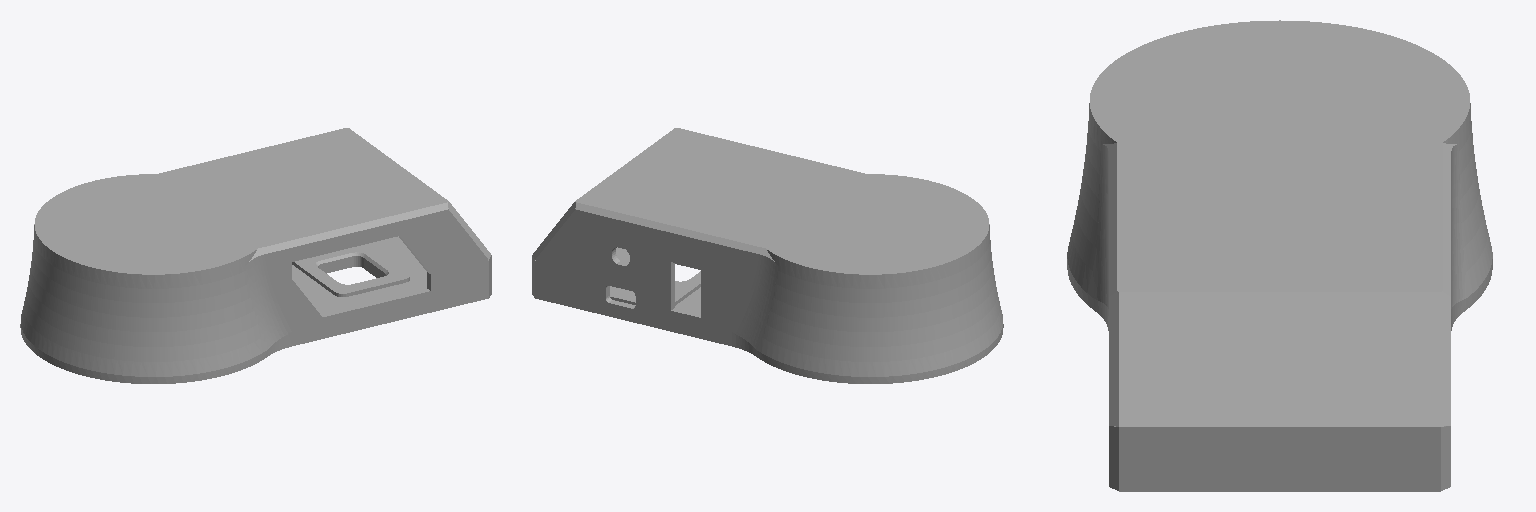
robot.urdf — URDF:
<?xml version="1.0" ?>
<!-- =================================================================================== -->
<!-- |    This document was autogenerated by xacro from URDF.xacro                     | -->
<!-- |    EDITING THIS FILE BY HAND IS NOT RECOMMENDED                                 | -->
<!-- =================================================================================== -->
<robot name="URDF">
  <material name="silver">
    <color rgba="0.700 0.700 0.700 1.000"/>
  </material>
  <transmission name="Revolute1_tran">
    <type>transmission_interface/SimpleTransmission</type>
    <joint name="Revolute1">
      <hardwareInterface>hardware_interface/EffortJointInterface</hardwareInterface>
    </joint>
    <actuator name="Revolute1_actr">
      <hardwareInterface>hardware_interface/EffortJointInterface</hardwareInterface>
      <mechanicalReduction>1</mechanicalReduction>
    </actuator>
  </transmission>
  <transmission name="Revolute2_tran">
    <type>transmission_interface/SimpleTransmission</type>
    <joint name="Revolute2">
      <hardwareInterface>hardware_interface/EffortJointInterface</hardwareInterface>
    </joint>
    <actuator name="Revolute2_actr">
      <hardwareInterface>hardware_interface/EffortJointInterface</hardwareInterface>
      <mechanicalReduction>1</mechanicalReduction>
    </actuator>
  </transmission>
  <transmission name="Revolute3_tran">
    <type>transmission_interface/SimpleTransmission</type>
    <joint name="Revolute3">
      <hardwareInterface>hardware_interface/EffortJointInterface</hardwareInterface>
    </joint>
    <actuator name="Revolute3_actr">
      <hardwareInterface>hardware_interface/EffortJointInterface</hardwareInterface>
      <mechanicalReduction>1</mechanicalReduction>
    </actuator>
  </transmission>
  <transmission name="Revolute4_tran">
    <type>transmission_interface/SimpleTransmission</type>
    <joint name="Revolute4">
      <hardwareInterface>hardware_interface/EffortJointInterface</hardwareInterface>
    </joint>
    <actuator name="Revolute4_actr">
      <hardwareInterface>hardware_interface/EffortJointInterface</hardwareInterface>
      <mechanicalReduction>1</mechanicalReduction>
    </actuator>
  </transmission>
  <transmission name="Slider5_tran">
    <type>transmission_interface/SimpleTransmission</type>
    <joint name="Slider5">
      <hardwareInterface>hardware_interface/EffortJointInterface</hardwareInterface>
    </joint>
    <actuator name="Slider5_actr">
      <hardwareInterface>hardware_interface/EffortJointInterface</hardwareInterface>
      <mechanicalReduction>1</mechanicalReduction>
    </actuator>
  </transmission>
  <transmission name="Slider6_tran">
    <type>transmission_interface/SimpleTransmission</type>
    <joint name="Slider6">
      <hardwareInterface>hardware_interface/EffortJointInterface</hardwareInterface>
    </joint>
    <actuator name="Slider6_actr">
      <hardwareInterface>hardware_interface/EffortJointInterface</hardwareInterface>
      <mechanicalReduction>1</mechanicalReduction>
    </actuator>
  </transmission>
  <gazebo>
    <plugin filename="libgazebo_ros_control.so" name="control"/>
  </gazebo>
  <gazebo reference="base_link">
    <material>Gazebo/Silver</material>
    <mu1>0.2</mu1>
    <mu2>0.2</mu2>
    <selfCollide>true</selfCollide>
    <gravity>true</gravity>
  </gazebo>
  <gazebo reference="Joint1_1">
    <material>Gazebo/Silver</material>
    <mu1>0.2</mu1>
    <mu2>0.2</mu2>
    <selfCollide>true</selfCollide>
  </gazebo>
  <gazebo reference="Joint2_1">
    <material>Gazebo/Silver</material>
    <mu1>0.2</mu1>
    <mu2>0.2</mu2>
    <selfCollide>true</selfCollide>
  </gazebo>
  <gazebo reference="Joint3_1">
    <material>Gazebo/Silver</material>
    <mu1>0.2</mu1>
    <mu2>0.2</mu2>
    <selfCollide>true</selfCollide>
  </gazebo>
  <gazebo reference="Joint4_1">
    <material>Gazebo/Silver</material>
    <mu1>0.2</mu1>
    <mu2>0.2</mu2>
    <selfCollide>true</selfCollide>
  </gazebo>
  <gazebo reference="Right_jaw_1">
    <material>Gazebo/Silver</material>
    <mu1>0.2</mu1>
    <mu2>0.2</mu2>
    <selfCollide>true</selfCollide>
  </gazebo>
  <gazebo reference="Left_jaw_1">
    <material>Gazebo/Silver</material>
    <mu1>0.2</mu1>
    <mu2>0.2</mu2>
    <selfCollide>true</selfCollide>
  </gazebo>
  <link name="base_link">
    <inertial>
      <origin rpy="0 0 0" xyz="0.030646133274272267 -0.00025705252992554053 0.020795406083224673"/>
      <mass value="1.4664796275911582"/>
      <inertia ixx="0.001586" ixy="1e-06" ixz="2.8e-05" iyy="0.004086" iyz="-2.1e-05" izz="0.004908"/>
    </inertial>
    <visual>
      <origin rpy="0 0 0" xyz="0 0 0"/>
      <geometry>
        <mesh filename="package://URDF_description/meshes/base_link.stl" scale="0.001 0.001 0.001"/>
      </geometry>
      <material name="silver"/>
    </visual>
    <collision>
      <origin rpy="0 0 0" xyz="0 0 0"/>
      <geometry>
        <mesh filename="package://URDF_description/meshes/base_link.stl" scale="0.001 0.001 0.001"/>
      </geometry>
    </collision>
  </link>
  <link name="Joint1_1">
    <inertial>
      <origin rpy="0 0 0" xyz="0.0005329147611793454 0.0014563495351705054 0.015157418304501208"/>
      <mass value="0.49051731516542596"/>
      <inertia ixx="0.000431" ixy="0.0" ixz="1e-06" iyy="0.000277" iyz="-7e-06" izz="0.000535"/>
    </inertial>
    <visual>
      <origin rpy="0 0 0" xyz="0.000121 0.001909 -0.043"/>
      <geometry>
        <mesh filename="package://URDF_description/meshes/Joint1_1.stl" scale="0.001 0.001 0.001"/>
      </geometry>
      <material name="silver"/>
    </visual>
    <collision>
      <origin rpy="0 0 0" xyz="0.000121 0.001909 -0.043"/>
      <geometry>
        <mesh filename="package://URDF_description/meshes/Joint1_1.stl" scale="0.001 0.001 0.001"/>
      </geometry>
    </collision>
  </link>
  <link name="Joint2_1">
    <inertial>
      <origin rpy="0 0 0" xyz="0.048707572168144045 -0.021120125070860845 -0.00013257786523988846"/>
      <mass value="0.701502571183849"/>
      <inertia ixx="0.00058" ixy="-4.5e-05" ixz="2e-06" iyy="0.00086" iyz="-2e-06" izz="0.001212"/>
    </inertial>
    <visual>
      <origin rpy="0 0 0" xyz="0.00013 -0.021091 -0.0755"/>
      <geometry>
        <mesh filename="package://URDF_description/meshes/Joint2_1.stl" scale="0.001 0.001 0.001"/>
      </geometry>
      <material name="silver"/>
    </visual>
    <collision>
      <origin rpy="0 0 0" xyz="0.00013 -0.021091 -0.0755"/>
      <geometry>
        <mesh filename="package://URDF_description/meshes/Joint2_1.stl" scale="0.001 0.001 0.001"/>
      </geometry>
    </collision>
  </link>
  <link name="Joint3_1">
    <inertial>
      <origin rpy="0 0 0" xyz="-0.027417713845527297 -0.021508487339836967 0.027021192126078633"/>
      <mass value="0.5904481206007668"/>
      <inertia ixx="0.000475" ixy="-6e-06" ixz="0.000123" iyy="0.000798" iyz="-2e-05" izz="0.000842"/>
    </inertial>
    <visual>
      <origin rpy="0 0 0" xyz="-0.08987 -0.021101 -0.0755"/>
      <geometry>
        <mesh filename="package://URDF_description/meshes/Joint3_1.stl" scale="0.001 0.001 0.001"/>
      </geometry>
      <material name="silver"/>
    </visual>
    <collision>
      <origin rpy="0 0 0" xyz="-0.08987 -0.021101 -0.0755"/>
      <geometry>
        <mesh filename="package://URDF_description/meshes/Joint3_1.stl" scale="0.001 0.001 0.001"/>
      </geometry>
    </collision>
  </link>
  <link name="Joint4_1">
    <inertial>
      <origin rpy="0 0 0" xyz="-0.0028935402687894534 -0.023149716954682202 -8.315819780418954e-07"/>
      <mass value="0.23259176688485017"/>
      <inertia ixx="8.2e-05" ixy="-4e-06" ixz="0.0" iyy="3.5e-05" iyz="-0.0" izz="8.2e-05"/>
    </inertial>
    <visual>
      <origin rpy="0 0 0" xyz="-0.007167 -0.021111 -0.111"/>
      <geometry>
        <mesh filename="package://URDF_description/meshes/Joint4_1.stl" scale="0.001 0.001 0.001"/>
      </geometry>
      <material name="silver"/>
    </visual>
    <collision>
      <origin rpy="0 0 0" xyz="-0.007167 -0.021111 -0.111"/>
      <geometry>
        <mesh filename="package://URDF_description/meshes/Joint4_1.stl" scale="0.001 0.001 0.001"/>
      </geometry>
    </collision>
  </link>
  <link name="Right_jaw_1">
    <inertial>
      <origin rpy="0 0 0" xyz="-0.008029685775087147 -0.01623400794041338 0.0002096419702396629"/>
      <mass value="0.026847764745505966"/>
      <inertia ixx="3e-06" ixy="-0.0" ixz="-0.0" iyy="4e-06" iyz="-0.0" izz="1e-06"/>
    </inertial>
    <visual>
      <origin rpy="0 0 0" xyz="0.010333 -0.020611 -0.111"/>
      <geometry>
        <mesh filename="package://URDF_description/meshes/Right_jaw_1.stl" scale="0.001 0.001 0.001"/>
      </geometry>
      <material name="silver"/>
    </visual>
    <collision>
      <origin rpy="0 0 0" xyz="0.010333 -0.020611 -0.111"/>
      <geometry>
        <mesh filename="package://URDF_description/meshes/Right_jaw_1.stl" scale="0.001 0.001 0.001"/>
      </geometry>
    </collision>
  </link>
  <link name="Left_jaw_1">
    <inertial>
      <origin rpy="0 0 0" xyz="-0.008029717819042945 0.016233468870598598 -0.00020973773489249559"/>
      <mass value="0.02684775454507079"/>
      <inertia ixx="3e-06" ixy="0.0" ixz="0.0" iyy="4e-06" iyz="-0.0" izz="1e-06"/>
    </inertial>
    <visual>
      <origin rpy="0 0 0" xyz="0.010333 0.024389 -0.111"/>
      <geometry>
        <mesh filename="package://URDF_description/meshes/Left_jaw_1.stl" scale="0.001 0.001 0.001"/>
      </geometry>
      <material name="silver"/>
    </visual>
    <collision>
      <origin rpy="0 0 0" xyz="0.010333 0.024389 -0.111"/>
      <geometry>
        <mesh filename="package://URDF_description/meshes/Left_jaw_1.stl" scale="0.001 0.001 0.001"/>
      </geometry>
    </collision>
  </link>
  <joint name="Revolute1" type="revolute">
    <origin rpy="0 0 0" xyz="-0.000121 -0.001909 0.043"/>
    <parent link="base_link"/>
    <child link="Joint1_1"/>
    <axis xyz="0.0 0.0 1.0"/>
    <limit effort="100" lower="-1.570796" upper="1.570796" velocity="100"/>
  </joint>
  <joint name="Revolute2" type="revolute">
    <origin rpy="0 0 0" xyz="-9e-06 0.023 0.0325"/>
    <parent link="Joint1_1"/>
    <child link="Joint2_1"/>
    <axis xyz="0.0 -1.0 0.0"/>
    <limit effort="100" lower="0.0" upper="3.141593" velocity="100"/>
  </joint>
  <joint name="Revolute3" type="revolute">
    <origin rpy="0 0 0" xyz="0.09 1e-05 0.0"/>
    <parent link="Joint2_1"/>
    <child link="Joint3_1"/>
    <axis xyz="0.0 -1.0 0.0"/>
    <limit effort="100" lower="3.141593" upper="6.283185" velocity="100"/>
  </joint>
  <joint name="Revolute4" type="revolute">
    <origin rpy="0 0 0" xyz="-0.082703 1e-05 0.0355"/>
    <parent link="Joint3_1"/>
    <child link="Joint4_1"/>
    <axis xyz="-0.0 -1.0 0.0"/>
    <limit effort="100" lower="-1.570796" upper="1.570796" velocity="100"/>
  </joint>
  <joint name="Slider5" type="prismatic">
    <origin rpy="0 0 0" xyz="-0.0175 -0.0005 0.0"/>
    <parent link="Joint4_1"/>
    <child link="Right_jaw_1"/>
    <axis xyz="0.0 1.0 -0.0"/>
    <limit effort="100" lower="0.0" upper="0.006" velocity="100"/>
  </joint>
  <joint name="Slider6" type="prismatic">
    <origin rpy="0 0 0" xyz="-0.0175 -0.0455 0.0"/>
    <parent link="Joint4_1"/>
    <child link="Left_jaw_1"/>
    <axis xyz="-0.0 -1.0 0.0"/>
    <limit effort="100" lower="0.0" upper="0.006" velocity="100"/>
  </joint>
</robot>

--- Facts derived from the render (not from the file) ---
3 views of the same robot in one strip: view 1: azimuth 30°, elevation 25°; view 2: azimuth 150°, elevation 25°; view 3: azimuth 270°, elevation 25° (orthographic).
Model URDF with 7 links and 6 joints (4 revolute, 2 prismatic), rooted at base_link, posed all joints at 0 but 1 set to mid-range because 0 is outside their limits (Revolute3 = 4.71).
Visible links, largest first — view 1: base_link; view 2: base_link; view 3: base_link.
Link boxes in pixels (x1=…): base_link: x1=20, y1=128, x2=491, y2=383; base_link: x1=532, y1=128, x2=1003, y2=383; base_link: x1=1067, y1=20, x2=1492, y2=491.
Bounding box of the posed robot: 0.1749 × 0.1 × 0.043 m (x, y, z).
1 mesh visuals loaded from 7 distinct referenced files (1 binary STL); not drawn: 6 (reference not matched to a file when rendering).